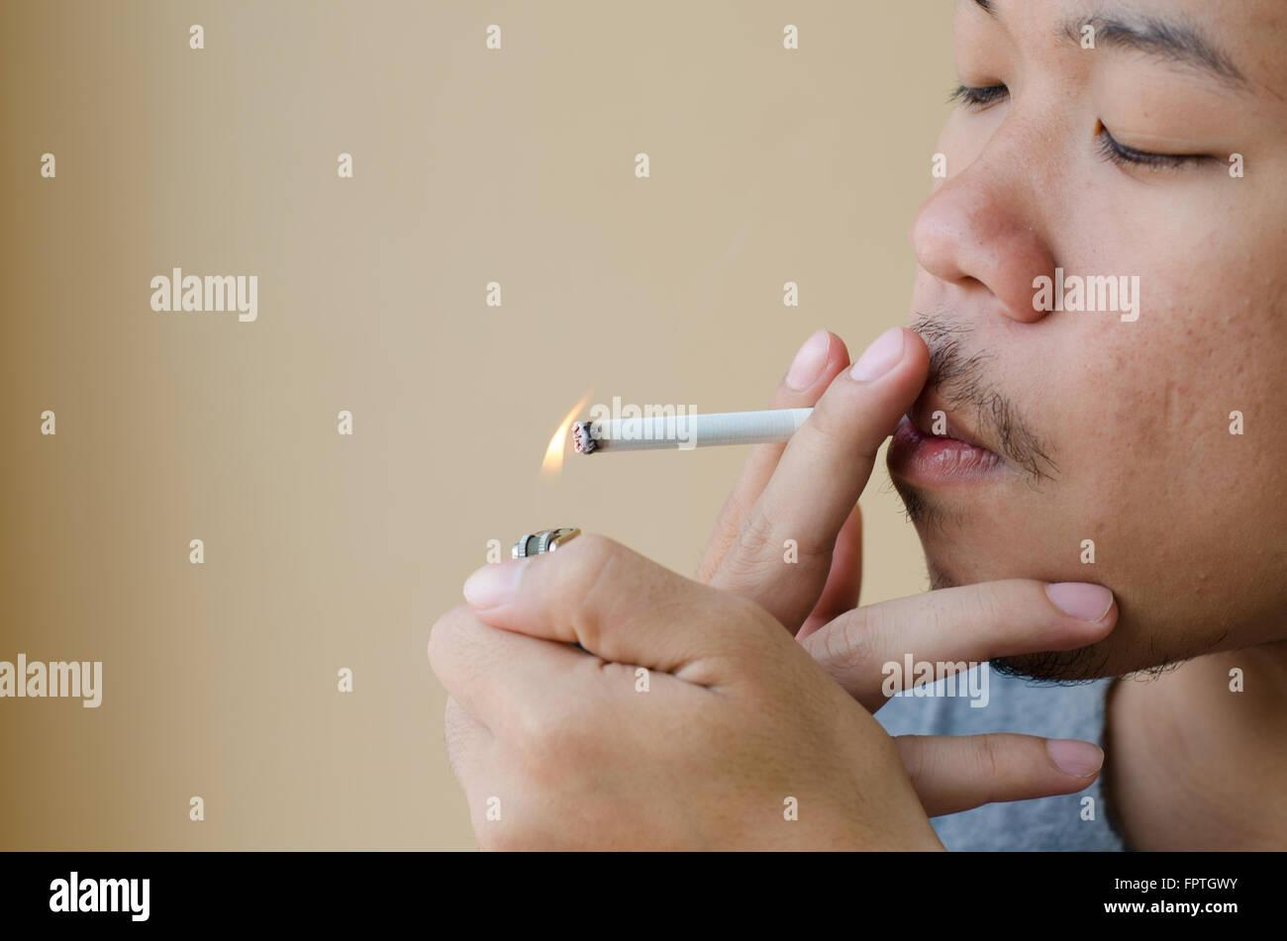cigarette: (572, 408, 812, 453)
